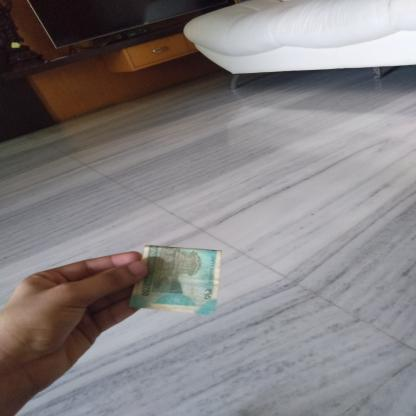New50Back: (134, 247, 225, 314)
